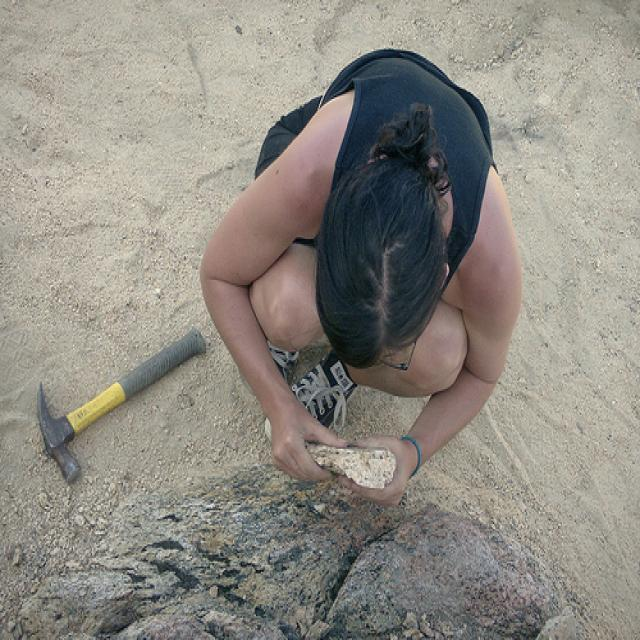hammer: (28, 320, 212, 497)
